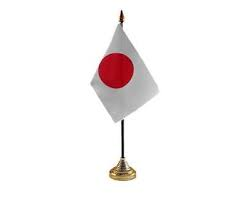Japanese Flag: (86, 22, 164, 125)
